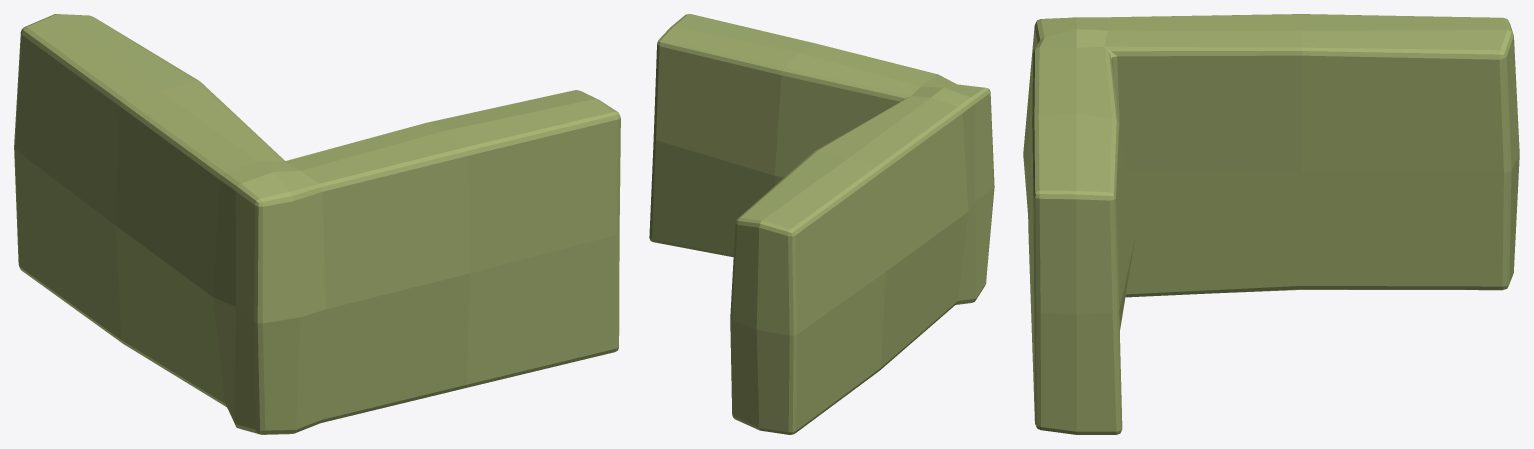
Rendered from Wall piece 7.fbx.
3 renders of one model, left to right at view 1: azimuth 30°, elevation 25°; view 2: azimuth 150°, elevation 25°; view 3: azimuth 270°, elevation 25°, orthographic. The views are drawn at different scales.
Visible parts, largest first — view 1: wall piece 7O; view 2: wall piece 7O; view 3: wall piece 7O.
Boxes of the visible parts, bbox=[...] form: wall piece 7O: bbox=[14, 14, 620, 434]; wall piece 7O: bbox=[649, 14, 994, 434]; wall piece 7O: bbox=[1023, 14, 1519, 434].
Size of the model in its own units: 698 by 805 by 455.
